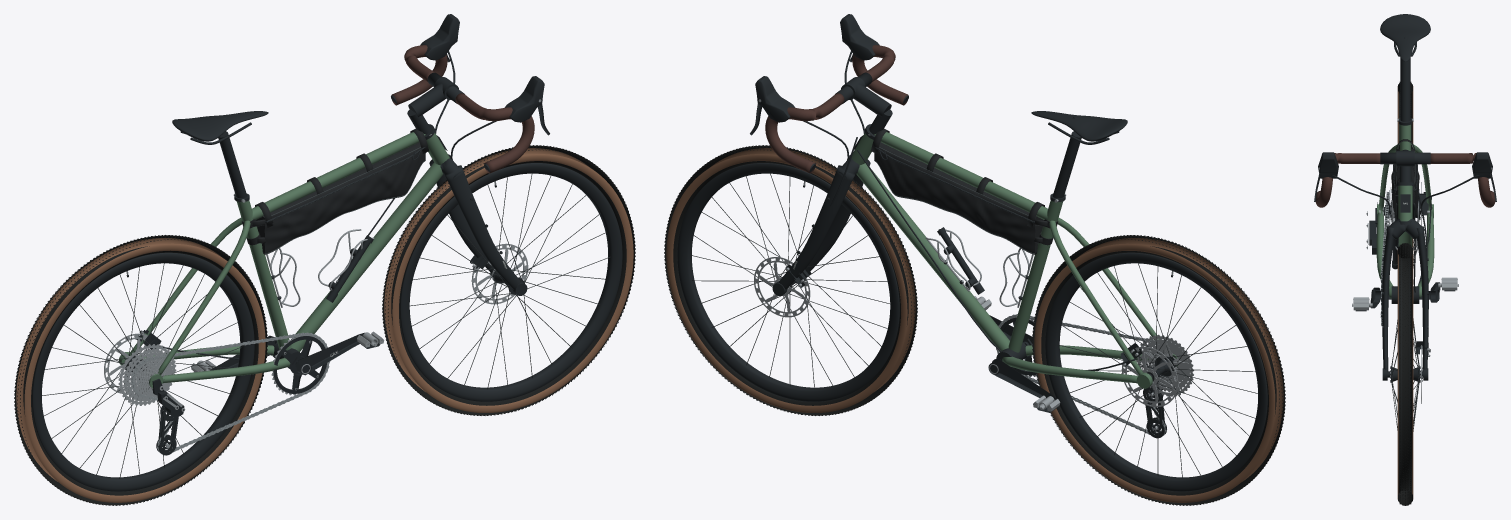
Rendered from RAIL_Wichelsee_visual_v2.glb.
3 renders of one model, left to right at view 1: azimuth 30°, elevation 25°; view 2: azimuth 150°, elevation 25°; view 3: azimuth 270°, elevation 25°, orthographic. The views are drawn at different scales.
Parts seen in each view (by area): view 1: Wheel_Front, Wheel_Rear, Frame, Frame bag, Fork, Handlebar, Controls, Cassette, Saddle, Chain, Cockpit, Drivetrain (+5 smaller); view 2: Wheel_Rear, Wheel_Front, Frame, Frame bag, Fork, Handlebar, Controls, Cassette, Saddle, Cockpit, Cables, Brake_Rear_Rotor (+6 smaller); view 3: Wheel_Front, Frame, Fork, Handlebar, Saddle, Controls, Cockpit, Frame bag, Seatpost, Cables, Wheel_Rear, Pedal (+3 smaller).
Boxes of the visible parts, box(x1,y1,x2,y2) form: Wheel_Front: box(382, 145, 635, 415); Wheel_Rear: box(14, 235, 267, 505); Frame: box(118, 132, 449, 388); Frame bag: box(241, 128, 428, 254); Fork: box(429, 158, 527, 295); Handlebar: box(391, 45, 534, 173); Controls: box(420, 14, 549, 135); Cassette: box(118, 344, 176, 405); Saddle: box(172, 111, 268, 144); Chain: box(131, 332, 330, 453); Cockpit: box(407, 72, 464, 134); Drivetrain: box(271, 335, 327, 395); Wheel_Rear: box(1032, 235, 1285, 505); Wheel_Front: box(664, 145, 917, 415); Frame: box(851, 132, 1177, 388); Frame bag: box(871, 128, 1058, 254); Fork: box(772, 158, 870, 295); Handlebar: box(765, 45, 908, 173); Controls: box(750, 14, 879, 135); Cassette: box(1136, 334, 1193, 396); Saddle: box(1031, 111, 1127, 144); Cockpit: box(835, 72, 892, 134); Cables: box(798, 51, 1136, 370); Brake_Rear_Rotor: box(1121, 346, 1178, 407); Wheel_Front: box(1387, 243, 1423, 505); Frame: box(1376, 124, 1434, 303); Fork: box(1382, 218, 1428, 380); Handlebar: box(1315, 153, 1495, 207); Saddle: box(1380, 14, 1430, 61); Controls: box(1314, 152, 1496, 201); Cockpit: box(1380, 149, 1430, 182); Frame bag: box(1391, 139, 1419, 219); Seatpost: box(1397, 58, 1413, 125); Cables: box(1331, 175, 1479, 292); Wheel_Rear: box(1387, 82, 1423, 268); Pedal: box(1352, 277, 1458, 311).
Size of the model in its own units: 1.76 by 1 by 0.4964.
Materials: 12 (4 with a texture image).
